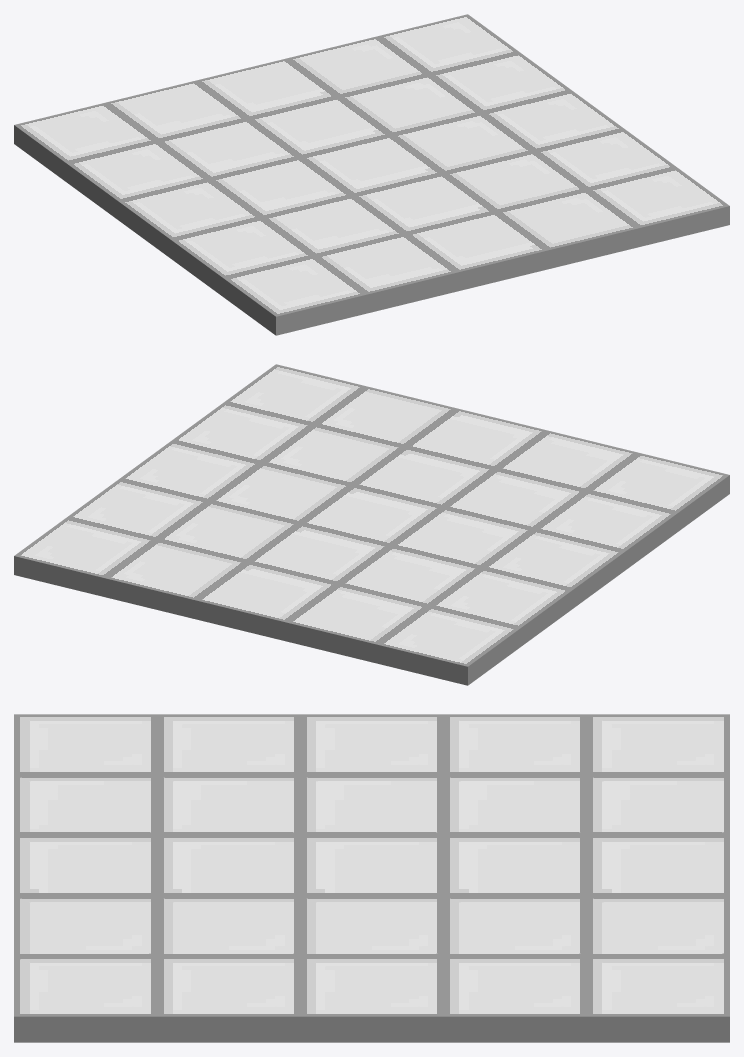
File: tilefloor_five-convcol.gltf
The picture shows the model from 3 angles, top to bottom: view 1: azimuth 30°, elevation 25°; view 2: azimuth 150°, elevation 25°; view 3: azimuth 270°, elevation 25°; orthographic projection. The views are drawn at different scales.
Visible parts, largest first — view 1: tilefloor_five-convcol; view 2: tilefloor_five-convcol; view 3: tilefloor_five-convcol.
Boxes of the visible parts, bbox=[...] form: tilefloor_five-convcol: bbox=[14, 14, 729, 335]; tilefloor_five-convcol: bbox=[14, 364, 729, 685]; tilefloor_five-convcol: bbox=[14, 714, 729, 1042].
Size of the model in its own units: 5 by 0.2 by 5.
1 material, 1 textured.
